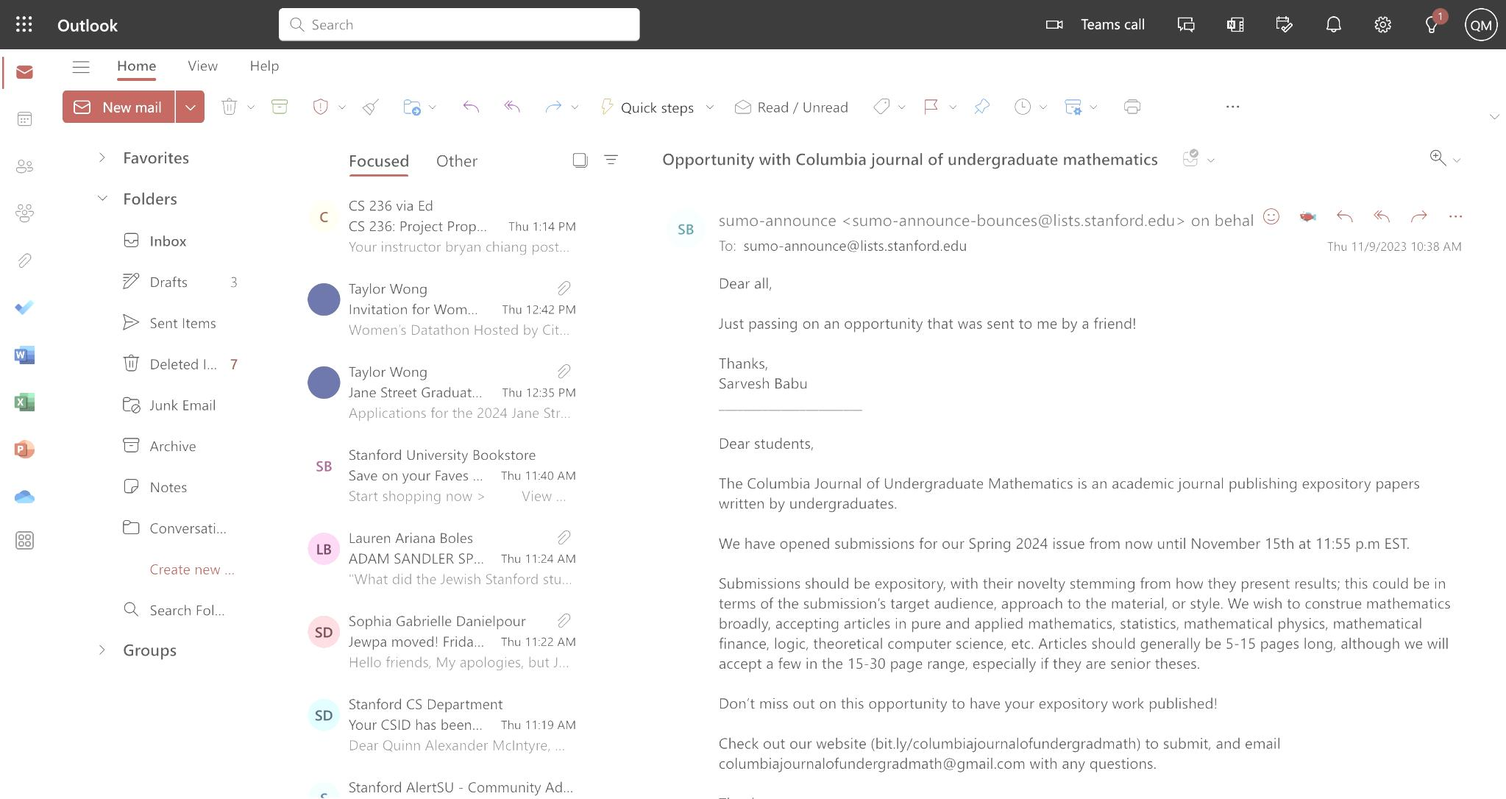webelement: (278, 182, 639, 797), (57, 128, 276, 798), (50, 48, 1506, 127), (0, 0, 1505, 48), (278, 186, 621, 269), (278, 269, 621, 352), (278, 352, 621, 435), (278, 684, 621, 767), (278, 20, 621, 102), (278, 103, 621, 185), (278, 436, 621, 518), (278, 519, 621, 601), (278, 601, 621, 683), (592, 86, 1103, 126), (3, 48, 44, 520), (62, 86, 441, 126), (661, 146, 1162, 168), (278, 767, 621, 799), (718, 207, 1186, 230), (348, 29, 765, 48), (73, 136, 256, 177), (73, 260, 256, 301), (73, 424, 256, 465), (73, 588, 256, 629), (73, 178, 256, 218), (73, 219, 256, 259), (73, 301, 256, 341), (73, 342, 256, 382), (73, 383, 256, 423), (73, 465, 256, 505), (73, 506, 256, 546), (73, 547, 256, 587), (73, 629, 256, 669), (309, 12, 627, 33), (100, 48, 294, 80), (451, 86, 582, 126), (1282, 207, 1506, 230), (1041, 0, 1148, 48), (348, 112, 610, 131), (348, 382, 609, 401), (348, 132, 591, 152), (348, 548, 603, 567), (348, 777, 600, 796), (348, 69, 575, 89), (348, 152, 575, 172), (348, 235, 575, 255), (348, 318, 575, 338), (348, 401, 575, 421), (348, 484, 575, 504), (348, 651, 575, 671), (348, 734, 575, 754), (722, 90, 861, 122), (348, 465, 582, 484), (348, 568, 575, 587), (348, 49, 573, 68), (348, 216, 565, 235), (348, 631, 556, 650), (348, 299, 554, 318), (348, 444, 535, 464), (62, 90, 175, 122), (348, 714, 522, 734), (348, 611, 525, 630), (593, 91, 700, 121), (348, 694, 501, 713), (57, 0, 117, 48), (348, 136, 408, 181), (121, 145, 237, 167), (121, 186, 237, 208), (121, 637, 237, 659), (348, 528, 473, 547), (1211, 0, 1260, 48), (1358, 0, 1407, 48), (1407, 0, 1456, 48), (0, 0, 48, 48), (1162, 0, 1210, 48), (1260, 0, 1308, 48), (1309, 0, 1357, 48), (1457, 0, 1505, 48), (422, 143, 489, 175), (435, 136, 476, 181), (149, 558, 237, 578), (3, 146, 44, 187), (3, 193, 44, 234), (3, 240, 44, 281), (3, 287, 44, 328), (3, 334, 44, 375), (3, 382, 44, 423), (3, 429, 44, 470), (3, 476, 44, 517), (149, 435, 237, 454), (3, 52, 44, 92), (3, 99, 44, 139), (3, 521, 44, 561), (1423, 141, 1474, 173), (391, 90, 441, 122), (861, 90, 911, 122), (1002, 90, 1052, 122), (1053, 90, 1103, 122), (1213, 86, 1253, 126), (665, 208, 705, 248), (348, 195, 432, 214), (149, 230, 232, 249), (149, 312, 232, 331), (149, 394, 232, 413), (149, 476, 232, 495), (149, 517, 232, 536), (149, 599, 232, 618), (486, 299, 575, 316), (348, 278, 426, 297), (348, 361, 426, 380), (757, 98, 848, 114), (484, 466, 575, 482), (484, 549, 575, 565), (484, 632, 575, 648), (484, 715, 575, 731), (112, 49, 160, 79), (486, 383, 575, 399), (60, 50, 100, 84), (491, 50, 575, 66), (491, 133, 575, 149), (491, 216, 575, 232), (149, 271, 219, 290), (149, 353, 219, 372), (961, 90, 1002, 122), (1162, 90, 1203, 122), (259, 90, 299, 122), (350, 90, 390, 122), (451, 90, 491, 122), (492, 90, 532, 122), (1112, 90, 1152, 122), (1171, 146, 1222, 169), (183, 49, 221, 79), (245, 49, 283, 79), (1254, 199, 1287, 232), (1365, 199, 1398, 232), (1402, 199, 1435, 232), (208, 90, 242, 122), (299, 90, 333, 122), (911, 90, 945, 122), (533, 90, 566, 122), (307, 116, 339, 149), (307, 199, 339, 232), (307, 531, 339, 564), (307, 614, 339, 647), (307, 697, 339, 730), (1292, 199, 1324, 232), (1329, 199, 1361, 232), (1439, 199, 1471, 232), (307, 33, 339, 65), (307, 283, 339, 315), (307, 366, 339, 398), (307, 449, 339, 481), (88, 136, 114, 174), (88, 178, 114, 215), (88, 629, 114, 666), (594, 144, 627, 173), (102, 98, 160, 114), (175, 90, 204, 122), (1080, 16, 1144, 30), (565, 144, 594, 173), (15, 0, 32, 48), (1227, 0, 1243, 48), (1276, 0, 1292, 48), (1374, 0, 1390, 48), (1424, 0, 1440, 48), (1223, 87, 1243, 125), (665, 216, 705, 235), (307, 780, 339, 799), (269, 91, 289, 121), (360, 91, 380, 121), (461, 91, 481, 121), (502, 91, 522, 121), (1122, 91, 1142, 121), (1172, 91, 1192, 121), (972, 91, 991, 121), (116, 58, 156, 72), (566, 90, 583, 122), (242, 90, 258, 122), (333, 90, 349, 122), (945, 90, 961, 122), (700, 91, 717, 121), (348, 798, 850, 799), (180, 95, 200, 117), (187, 58, 217, 72), (249, 58, 279, 72), (14, 62, 33, 82), (14, 109, 33, 129), (14, 156, 33, 176), (14, 203, 33, 223), (14, 297, 33, 317), (14, 344, 33, 364), (14, 391, 33, 411), (14, 438, 33, 458), (14, 485, 33, 505), (14, 531, 33, 551), (14, 251, 33, 270), (1485, 106, 1503, 126), (278, 19, 282, 101), (278, 269, 282, 351), (278, 352, 282, 434), (278, 435, 282, 517), (278, 518, 282, 600), (278, 601, 282, 683), (278, 103, 282, 184), (278, 186, 282, 267), (278, 685, 282, 766), (1432, 7, 1448, 24), (566, 98, 583, 114), (1300, 207, 1316, 224), (242, 98, 258, 114), (333, 98, 349, 114), (945, 98, 961, 114), (228, 353, 237, 372), (230, 271, 237, 290), (278, 767, 282, 799)
